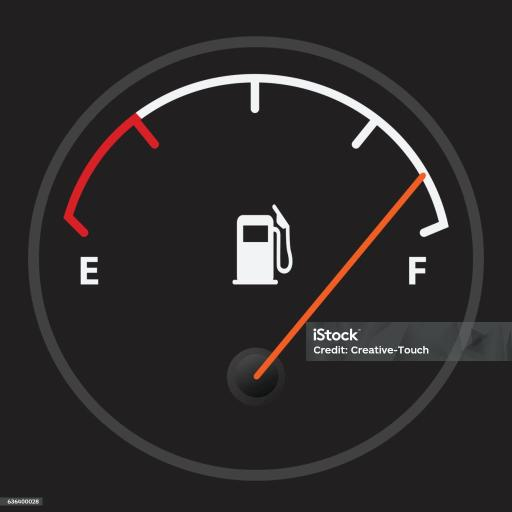empty: (71, 250, 106, 287)
fuel_icon: (230, 204, 295, 287)
full: (405, 252, 429, 288)
guage_area: (48, 40, 476, 452)
needle_center: (223, 346, 298, 412)
needle_tip: (407, 171, 436, 193)
